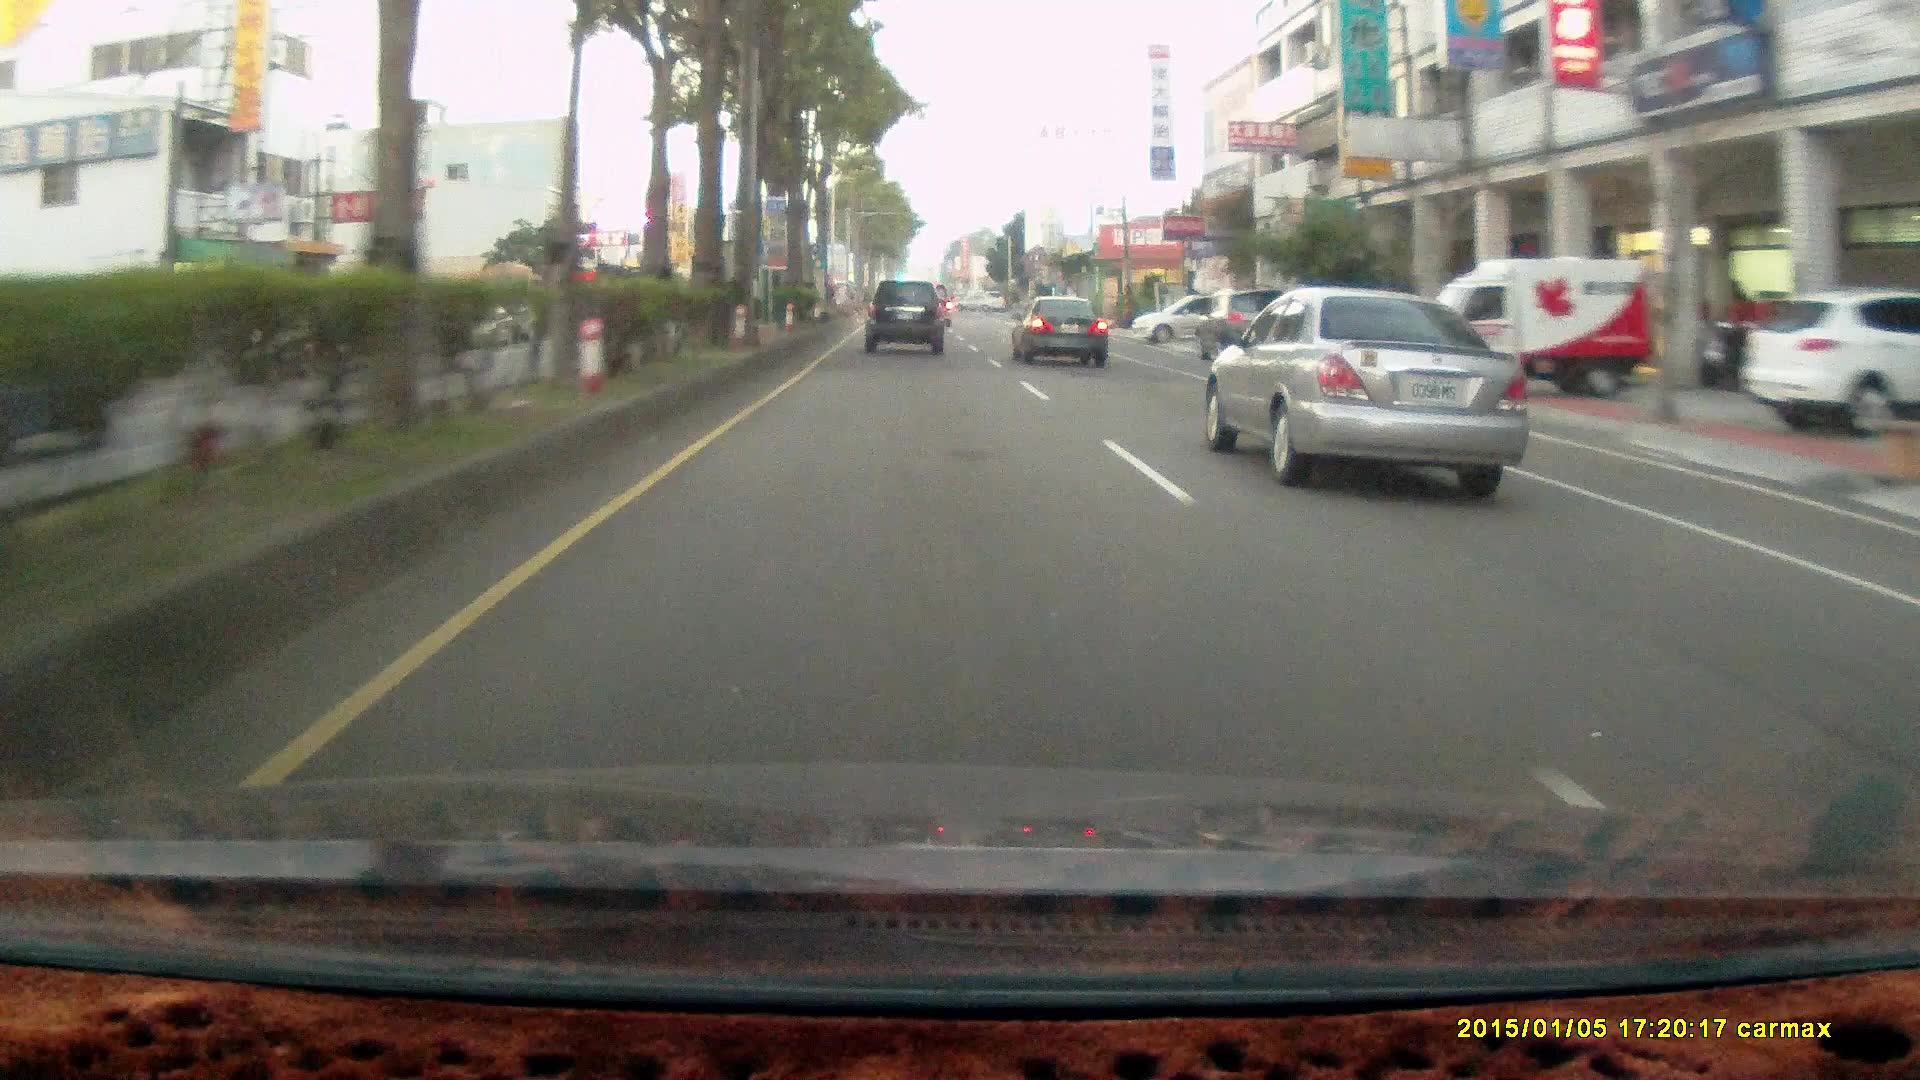vehicle: (1215, 290, 1542, 489), (1407, 251, 1655, 401), (1406, 251, 1650, 401), (1741, 286, 1920, 438), (1741, 285, 1920, 427), (1011, 290, 1112, 367), (1124, 289, 1250, 347), (1189, 287, 1288, 360), (1127, 293, 1255, 348), (1010, 294, 1106, 367), (1207, 287, 1299, 361), (864, 280, 949, 359), (862, 280, 944, 355)
